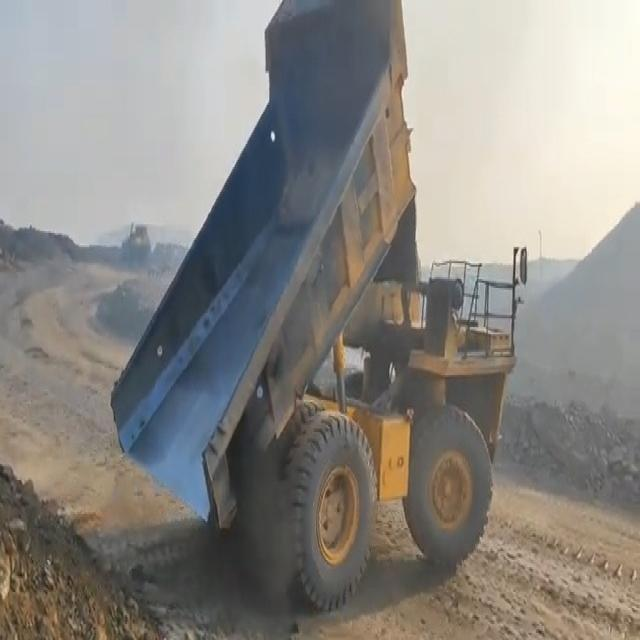dump_truck: (109, 0, 545, 604)
